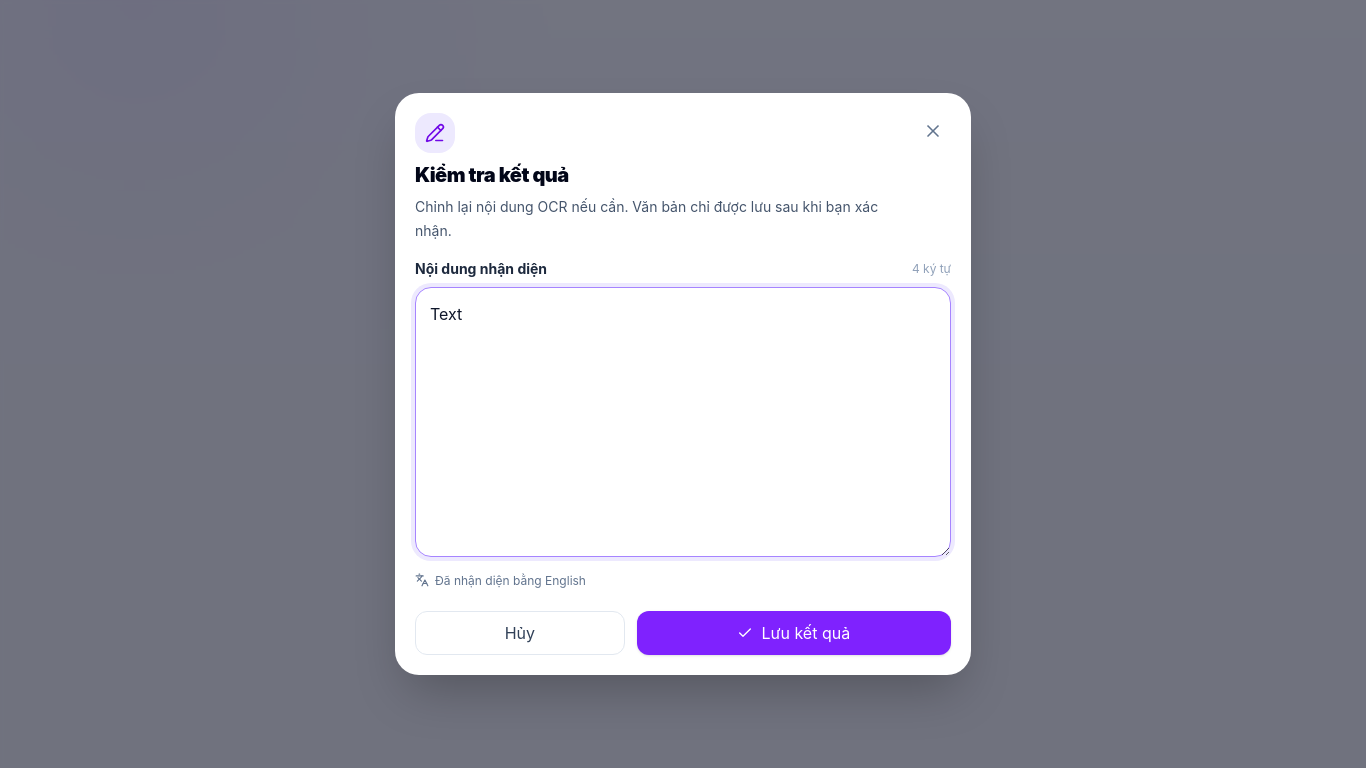
Test: ReviewScanDialog › does not allow empty content to be saved
Clear the text box labelled "Nội dung nhận diện" at [683, 422], box [415,287,951,557]
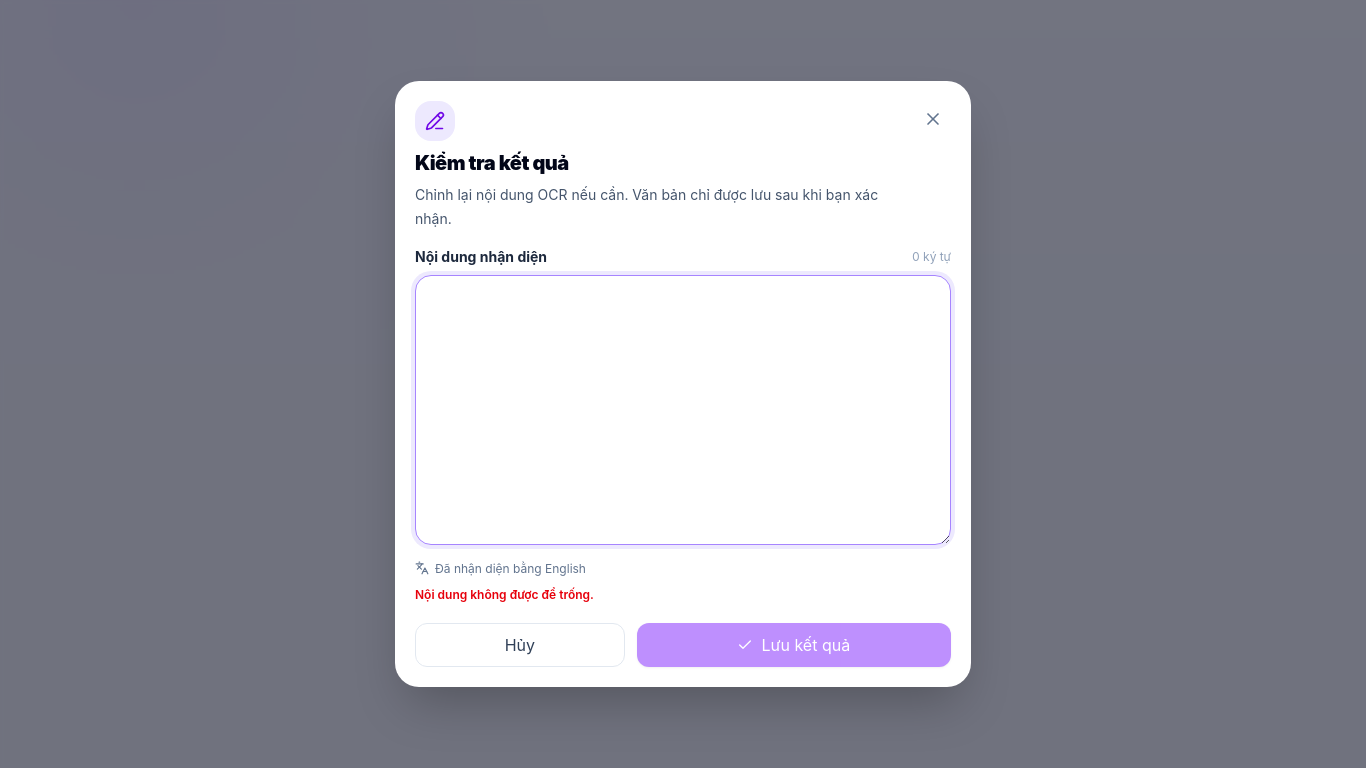
Expected: the button "Lưu kết quả" is disabled, [637,623,951,667]
Expected: the text "Nội dung không được để trống." is shown, [415,587,594,602]
